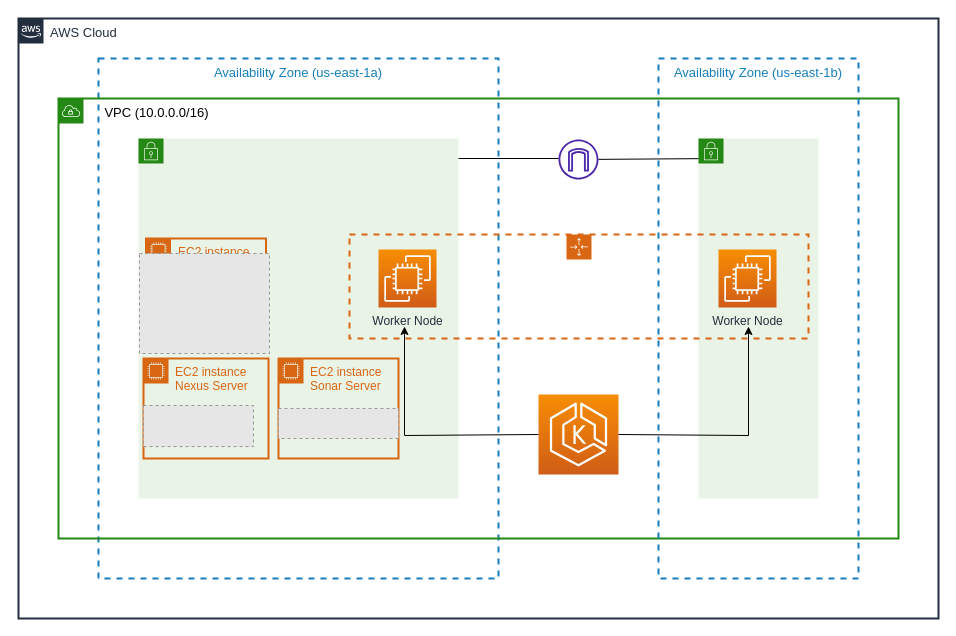
The diagram is 956 pixels wide and 636 high, and some of its shapes have lost their labels. Grey dashed boxes stand in for pictures. The box of each missing label's shape, as (x1, y1, x2, y2) in pixels:
Amazon EKS: (537, 393, 619, 475)
Auto Scaling group: (348, 233, 809, 339)
Internet Gateway: (558, 139, 598, 179)
Public subnet (10.0.0.0/24): (137, 137, 459, 499)
Public subnet (10.0.1.0/24): (697, 137, 819, 499)
